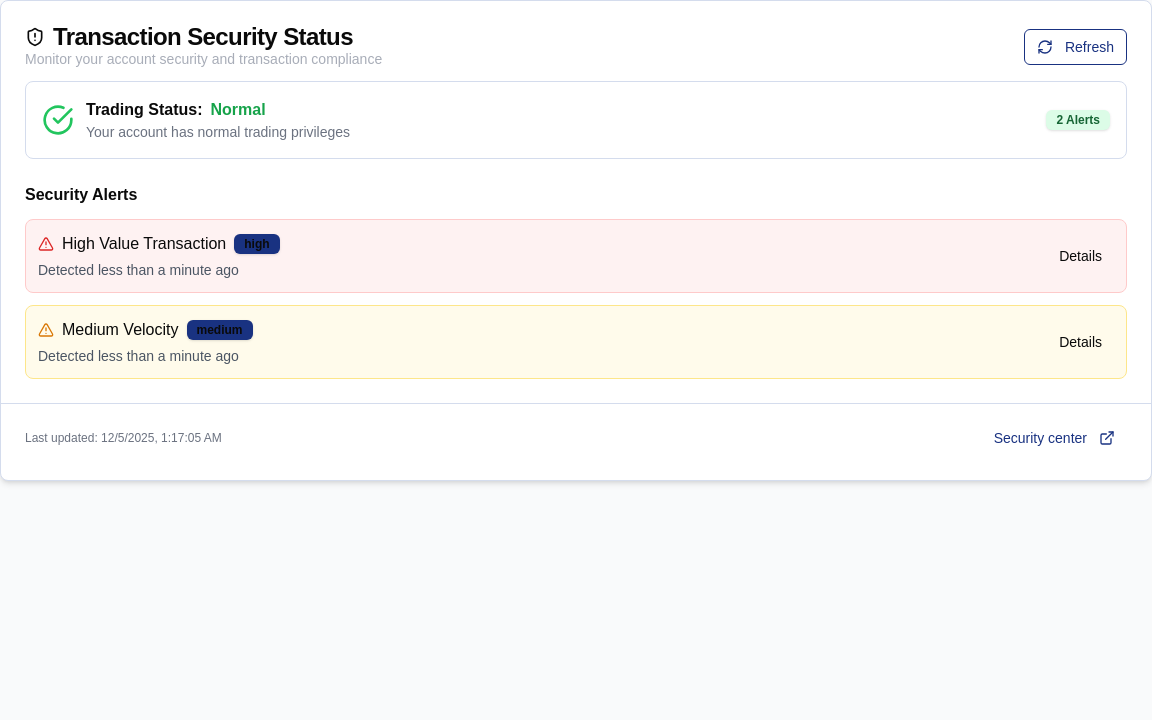
TransactionSecurity component › opens alert details on click
Expected: the text "High Value Transaction" is shown, [62, 232, 226, 256]
Click the button "Details" in the row of "High Value Transaction" at (1081, 256), box [1047, 238, 1114, 274]
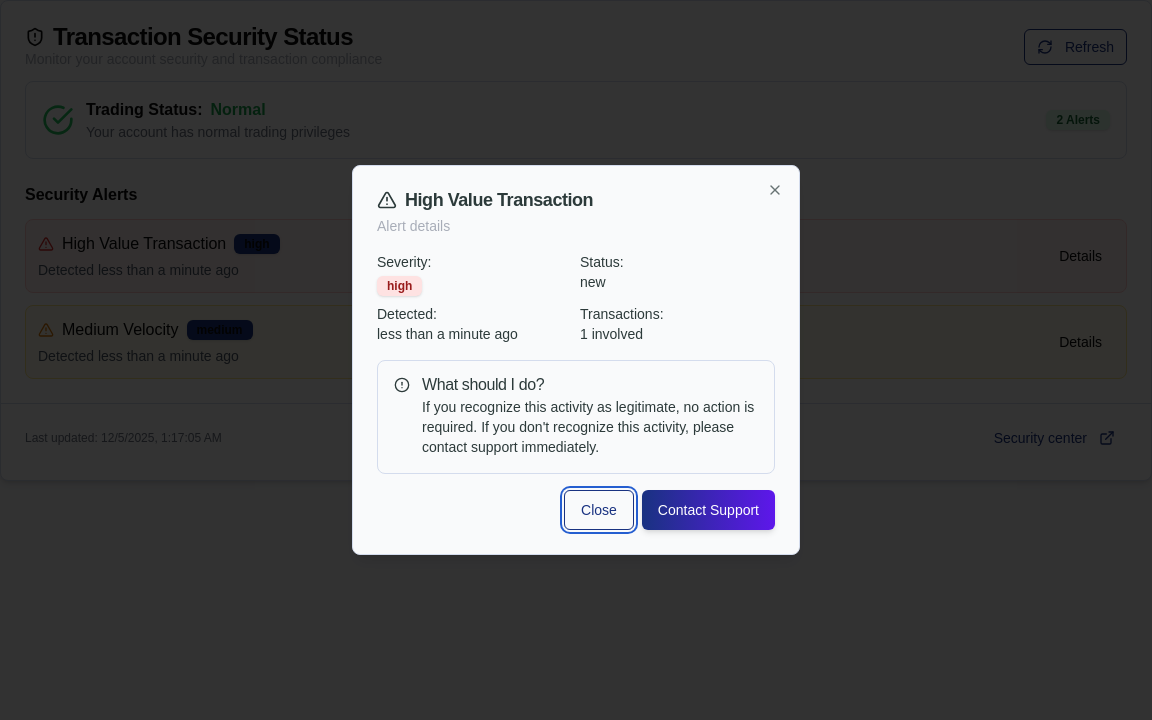
Now the text "Alert details" is shown, box [377, 218, 450, 234]
Now the text "Severity:" is shown, box [377, 254, 432, 270]
